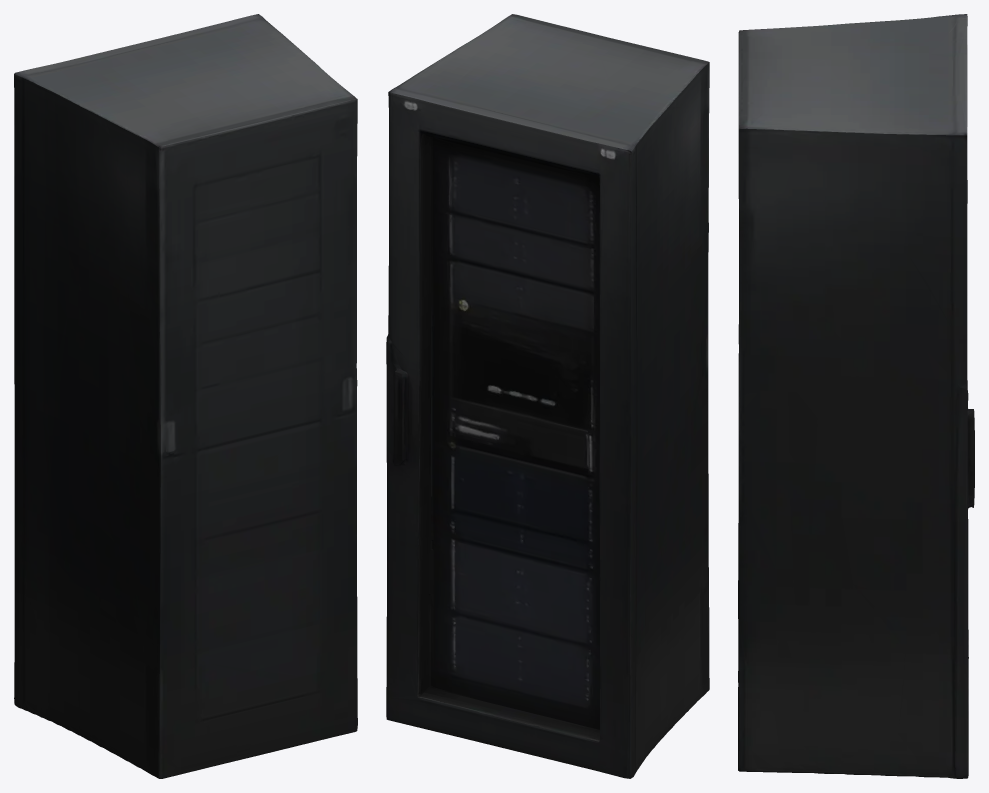
File: server_rack_black_slatted.glb
3 views of the same model, side by side, from view 1: azimuth 30°, elevation 25°; view 2: azimuth 150°, elevation 25°; view 3: azimuth 270°, elevation 25° (orthographic). The views are drawn at different scales.
Visible parts, largest first — view 1: geometry_0; view 2: geometry_0; view 3: geometry_0.
Boxes of the visible parts, x1,y1,x2,y2 form: geometry_0: (14, 14, 357, 778); geometry_0: (386, 14, 709, 778); geometry_0: (738, 14, 974, 778).
Bounding box in the file's own units: 0.4082 × 1 × 0.3335.
Materials: 1 (1 with a texture image).
